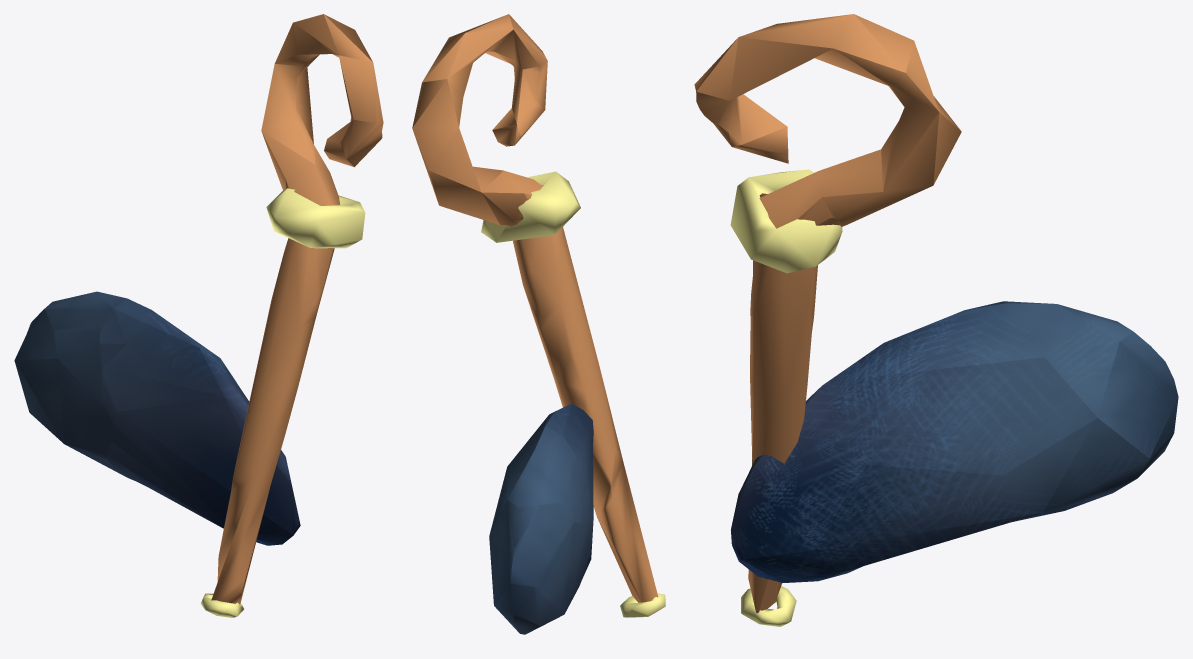
The model's file is WITCH_R_ARM.obj.
3 renders of one model, left to right at view 1: azimuth 30°, elevation 25°; view 2: azimuth 150°, elevation 25°; view 3: azimuth 270°, elevation 25°, orthographic. The views are drawn at different scales.
Parts seen in each view (by area): view 1: WITCH_R_ARM:Mesh, WITCH_R_ARM:MeshStaffpolySurface7, WITCH_R_ARM:MeshStaffpolySurface10, WITCH_R_ARM:MeshpolySurface12Staff, WITCH_R_ARM:MeshStaffpolySurface11; view 2: WITCH_R_ARM:Mesh, WITCH_R_ARM:MeshStaffpolySurface10, WITCH_R_ARM:MeshStaffpolySurface7, WITCH_R_ARM:MeshpolySurface12Staff, WITCH_R_ARM:MeshStaffpolySurface11; view 3: WITCH_R_ARM:Mesh, WITCH_R_ARM:MeshStaffpolySurface10, WITCH_R_ARM:MeshStaffpolySurface7, WITCH_R_ARM:MeshpolySurface12Staff, WITCH_R_ARM:MeshStaffpolySurface11.
Part boxes in pixels (box(x1,y1,x2,y2)): WITCH_R_ARM:Mesh: box(14, 291, 300, 545); WITCH_R_ARM:MeshStaffpolySurface7: box(211, 238, 334, 604); WITCH_R_ARM:MeshStaffpolySurface10: box(261, 14, 383, 205); WITCH_R_ARM:MeshpolySurface12Staff: box(266, 188, 365, 248); WITCH_R_ARM:MeshStaffpolySurface11: box(200, 593, 244, 617); WITCH_R_ARM:Mesh: box(489, 403, 593, 634); WITCH_R_ARM:MeshStaffpolySurface10: box(412, 14, 547, 226); WITCH_R_ARM:MeshStaffpolySurface7: box(513, 227, 658, 602); WITCH_R_ARM:MeshpolySurface12Staff: box(481, 171, 580, 242); WITCH_R_ARM:MeshStaffpolySurface11: box(620, 593, 665, 617); WITCH_R_ARM:Mesh: box(731, 301, 1178, 582); WITCH_R_ARM:MeshStaffpolySurface10: box(694, 14, 961, 228); WITCH_R_ARM:MeshStaffpolySurface7: box(748, 260, 817, 613); WITCH_R_ARM:MeshpolySurface12Staff: box(730, 169, 842, 273); WITCH_R_ARM:MeshStaffpolySurface11: box(741, 586, 796, 626).
Bounding box in the file's own units: 0.3668 × 0.9473 × 0.5766.
2 materials, 2 textured.
